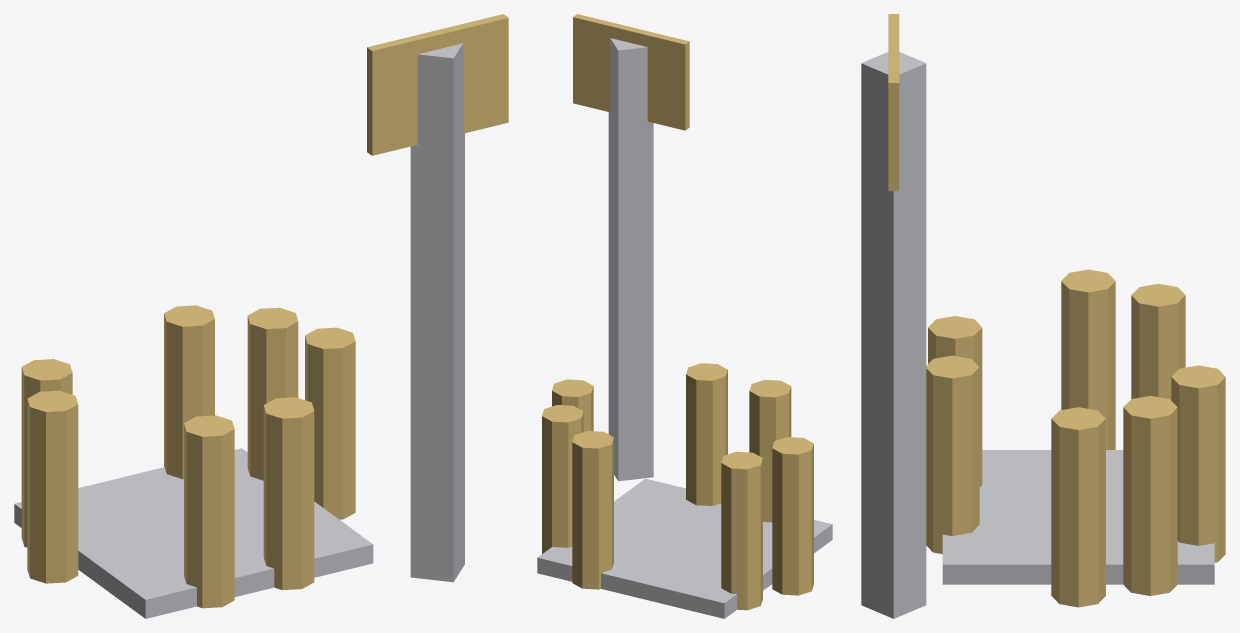
File: mars-depot.gltf
3 views of the same model, side by side, from view 1: azimuth 30°, elevation 25°; view 2: azimuth 150°, elevation 25°; view 3: azimuth 270°, elevation 25° (orthographic). The views are drawn at different scales.
Parts seen in each view (by area): view 1: gold, mars-depot; view 2: gold, mars-depot; view 3: gold, mars-depot.
Part boxes in pixels (x1,y1,x2,y2): gold: (21, 14, 508, 608); mars-depot: (14, 43, 464, 618); gold: (542, 14, 813, 610); mars-depot: (537, 38, 832, 618); gold: (888, 14, 1225, 607); mars-depot: (861, 52, 1214, 618).
Size of the model in its own units: 0.8392 by 1.13 by 0.6706.
